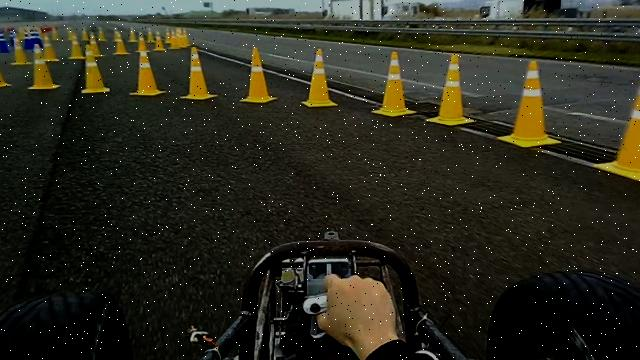yellow cone: (496, 59, 562, 148), (592, 69, 640, 181), (425, 52, 477, 127), (370, 50, 418, 118), (238, 46, 278, 104), (300, 47, 338, 108), (179, 46, 218, 101), (129, 46, 166, 97), (26, 40, 59, 92), (80, 43, 113, 93), (0, 42, 11, 88)
